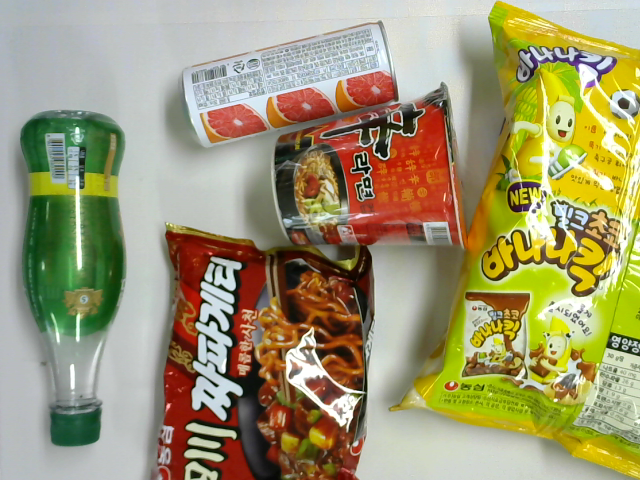Banana_Kick: (387, 1, 640, 476)
Demisoda_Grapefruit_Can_250ml: (178, 18, 403, 150)
Seagram_Lemon_Carbonated_Water: (16, 106, 133, 451)
Sichuan_Chapaghetti: (150, 220, 380, 480)
Sinramen_small: (269, 76, 474, 257)
